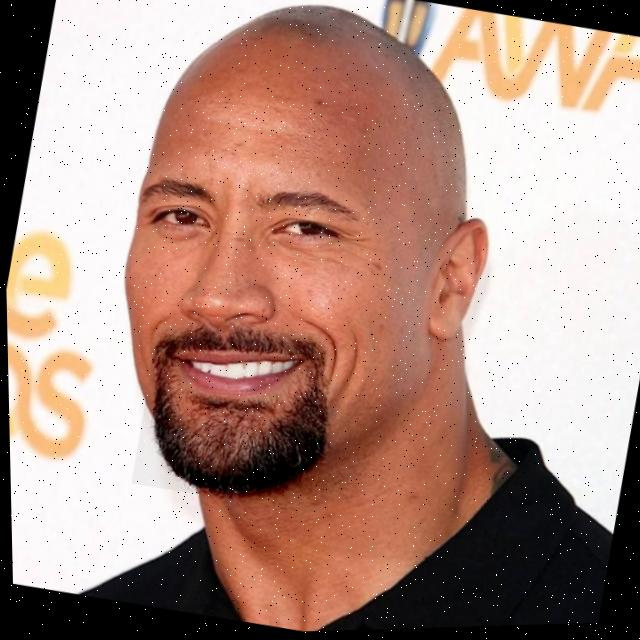beard: (149, 328, 328, 500)
